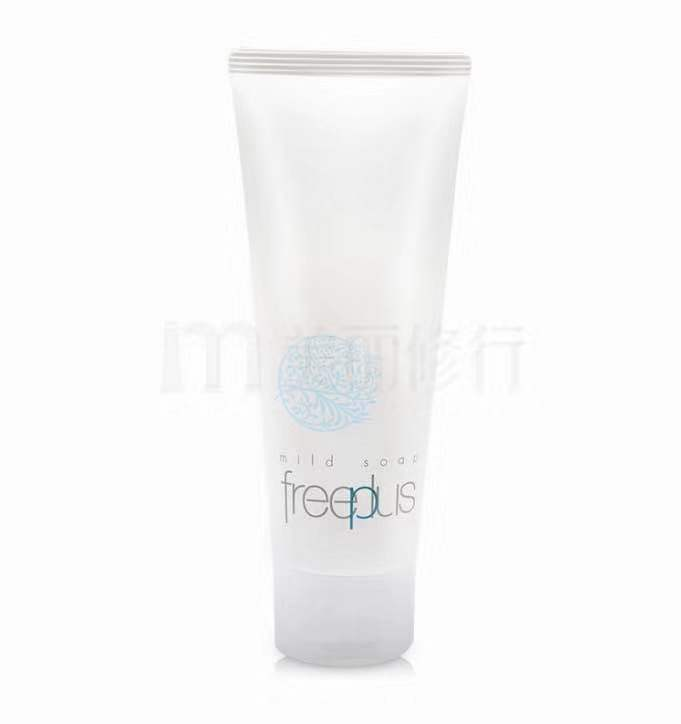cosmetic: (229, 41, 485, 669)
